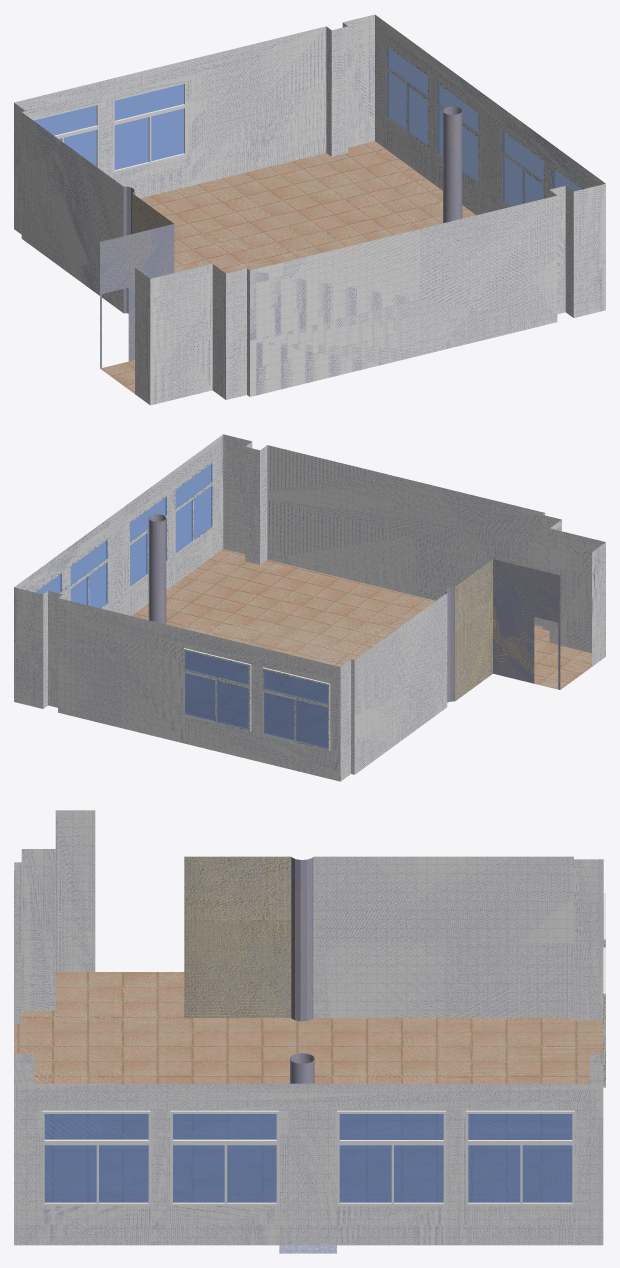
The model's file is AUL024.obj.
3 renders of one model, top to bottom at view 1: azimuth 30°, elevation 25°; view 2: azimuth 150°, elevation 25°; view 3: azimuth 270°, elevation 25°, orthographic. The views are drawn at different scales.
Visible parts, largest first — view 1: Mesh37 AUL024 Model, Mesh19 ventana1_4 AUL024 Model, Mesh31 ventana1_6 AUL024 Model, Mesh1 ventana1_1 AUL024 Model, Mesh25 ventana1_5 AUL024 Model, Mesh38 AUL024 Model, Mesh13 ventana1_3 AUL024 Model; view 2: Mesh37 AUL024 Model, Mesh19 ventana1_4 AUL024 Model, Mesh25 ventana1_5 AUL024 Model, Mesh7 ventana1_2 AUL024 Model, Mesh13 ventana1_3 AUL024 Model, Mesh38 AUL024 Model, Mesh1 ventana1_1 AUL024 Model; view 3: Mesh37 AUL024 Model, Mesh1 ventana1_1 AUL024 Model, Mesh31 ventana1_6 AUL024 Model, Mesh7 ventana1_2 AUL024 Model, Mesh13 ventana1_3 AUL024 Model, Mesh38 AUL024 Model.
Part boxes in pixels (bbox=[...]): Mesh37 AUL024 Model: bbox=[14, 14, 605, 405]; Mesh19 ventana1_4 AUL024 Model: bbox=[112, 81, 186, 173]; Mesh31 ventana1_6 AUL024 Model: bbox=[386, 44, 428, 148]; Mesh1 ventana1_1 AUL024 Model: bbox=[502, 129, 544, 207]; Mesh25 ventana1_5 AUL024 Model: bbox=[32, 103, 99, 168]; Mesh38 AUL024 Model: bbox=[443, 106, 462, 223]; Mesh13 ventana1_3 AUL024 Model: bbox=[436, 81, 479, 185]; Mesh37 AUL024 Model: bbox=[14, 434, 605, 781]; Mesh19 ventana1_4 AUL024 Model: bbox=[183, 648, 251, 731]; Mesh25 ventana1_5 AUL024 Model: bbox=[262, 667, 330, 750]; Mesh7 ventana1_2 AUL024 Model: bbox=[174, 461, 213, 555]; Mesh13 ventana1_3 AUL024 Model: bbox=[70, 537, 108, 608]; Mesh38 AUL024 Model: bbox=[148, 514, 166, 624]; Mesh1 ventana1_1 AUL024 Model: bbox=[129, 494, 167, 588]; Mesh37 AUL024 Model: bbox=[14, 810, 603, 1253]; Mesh1 ventana1_1 AUL024 Model: bbox=[170, 1110, 279, 1205]; Mesh31 ventana1_6 AUL024 Model: bbox=[465, 1110, 574, 1205]; Mesh7 ventana1_2 AUL024 Model: bbox=[42, 1110, 150, 1205]; Mesh13 ventana1_3 AUL024 Model: bbox=[337, 1110, 445, 1205]; Mesh38 AUL024 Model: bbox=[290, 1053, 314, 1083].
Size of the model in its own units: 13.47 by 3.6 by 11.96.
Materials: 10 (3 with a texture image).
